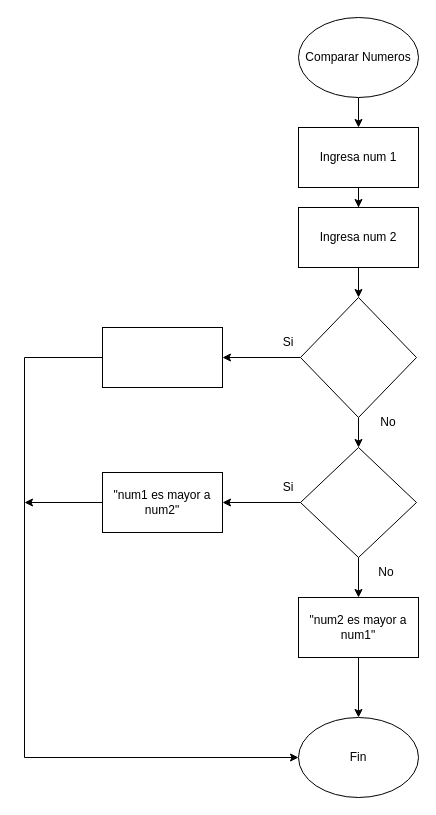
Image size: 436x815. Some labels were removed from this diagram. The box of each missing label's shape, as (x1, y1, x2, y2) in pixels:
"Los num son iguales": (102, 326, 222, 388)
num1==num2: (300, 296, 416, 418)
num1>num2: (300, 446, 416, 558)
